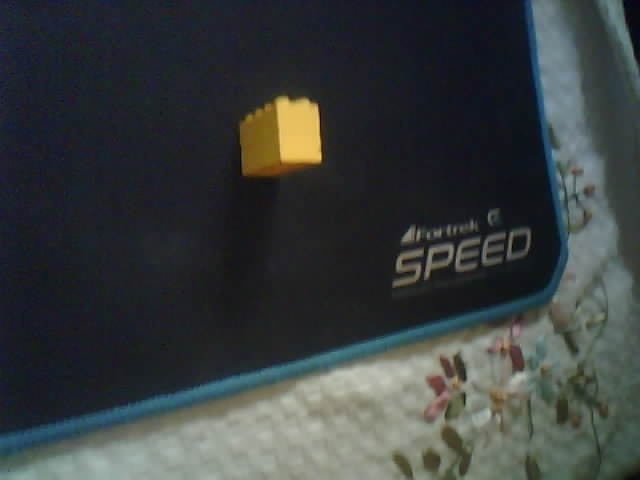lego: (238, 94, 324, 180)
